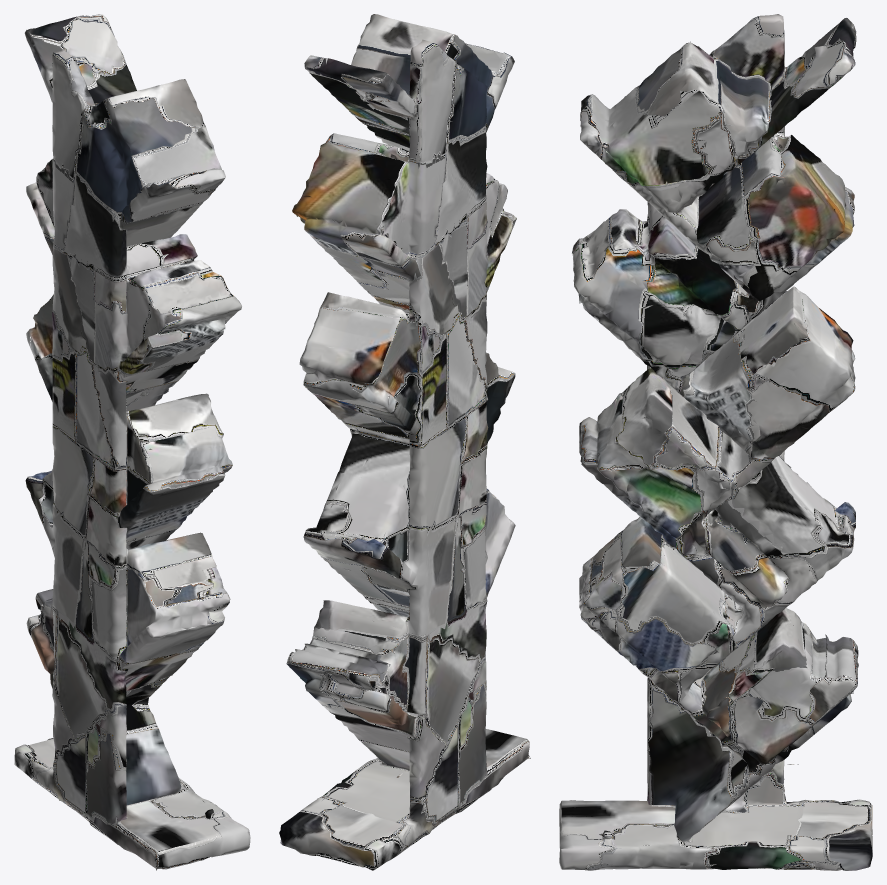
File: shelf.draco.glb
3 renders of one model, left to right at view 1: azimuth 30°, elevation 25°; view 2: azimuth 150°, elevation 25°; view 3: azimuth 270°, elevation 25°, orthographic. The views are drawn at different scales.
Parts seen in each view (by area): view 1: shelf; view 2: shelf; view 3: shelf.
Boxes of the visible parts, x1,y1,x2,y2 form: shelf: (14,14,250,870); shelf: (279,14,530,870); shelf: (559,14,872,870).
Bounding box in the file's own units: 0.2639 × 1.95 × 0.6858.
Materials: 1 (1 with a texture image).
